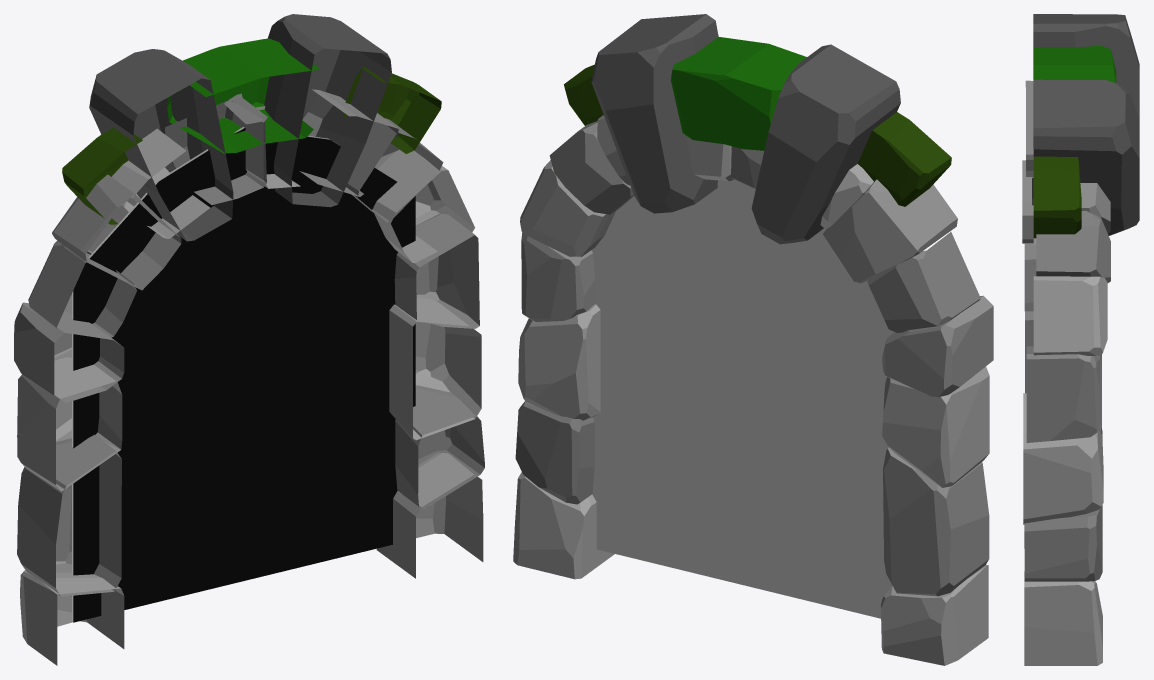
File: Gate02.fbx
3 views of the same model, side by side, from view 1: azimuth 30°, elevation 25°; view 2: azimuth 150°, elevation 25°; view 3: azimuth 270°, elevation 25° (orthographic). The views are drawn at different scales.
Visible parts, largest first — view 1: LOD0; view 2: LOD0; view 3: LOD0.
Part boxes in pixels (x1=…): LOD0: x1=14, y1=14, x2=484, y2=665; LOD0: x1=513, y1=14, x2=993, y2=665; LOD0: x1=1022, y1=14, x2=1139, y2=665.
Size of what is drawn, in the model's own units: 411 by 103 by 499.
